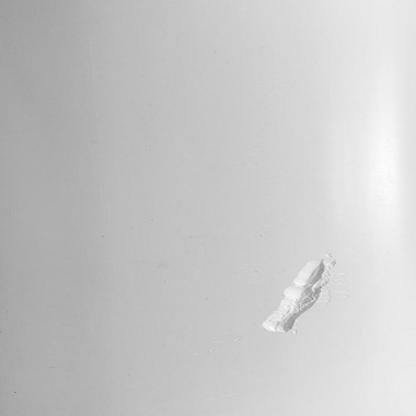sunshang: (261, 255, 333, 334)
